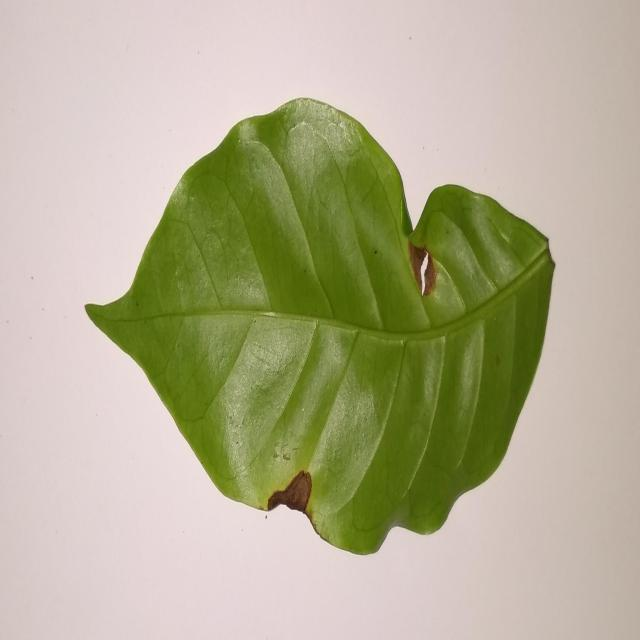phoma: (268, 471, 312, 522), (408, 240, 437, 295)
